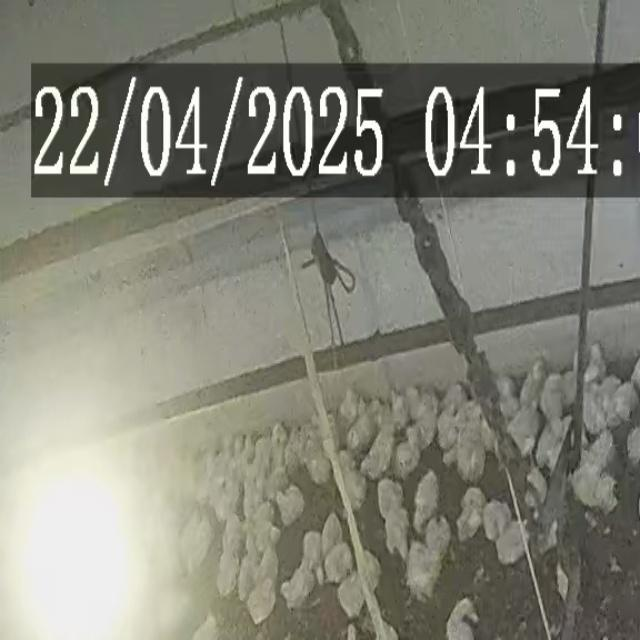chicken: (504, 405, 541, 461), (574, 468, 620, 510), (533, 416, 566, 473), (407, 543, 438, 602), (495, 520, 532, 568), (412, 468, 440, 530), (538, 372, 570, 426), (517, 360, 548, 414), (186, 510, 214, 569), (453, 432, 483, 484), (280, 568, 315, 612), (210, 471, 240, 520), (595, 374, 624, 424), (445, 595, 477, 640), (246, 580, 278, 625), (346, 406, 378, 451), (254, 542, 280, 596), (250, 500, 278, 550), (352, 547, 382, 593), (338, 574, 369, 618), (425, 514, 452, 564), (384, 497, 406, 557), (531, 514, 561, 558), (369, 428, 397, 475), (582, 436, 620, 470), (435, 406, 463, 452), (215, 548, 242, 595), (581, 389, 608, 435), (236, 555, 261, 604), (336, 471, 367, 509), (438, 380, 466, 422), (375, 479, 405, 518), (582, 342, 606, 389), (482, 501, 512, 538), (324, 545, 354, 582), (283, 427, 306, 475), (612, 380, 640, 419), (394, 439, 424, 475), (305, 450, 333, 488), (457, 503, 482, 545), (404, 383, 430, 422), (337, 384, 361, 426), (265, 461, 290, 501), (524, 465, 548, 506), (408, 409, 434, 446), (194, 467, 217, 508), (276, 488, 302, 524), (497, 391, 522, 428), (242, 480, 263, 524), (478, 412, 498, 458), (268, 432, 288, 478), (456, 486, 491, 512), (321, 512, 341, 554), (389, 390, 410, 430), (366, 397, 387, 437), (462, 400, 484, 438), (303, 532, 325, 569), (193, 614, 221, 640), (625, 423, 640, 468), (372, 617, 401, 640), (561, 368, 578, 403)
